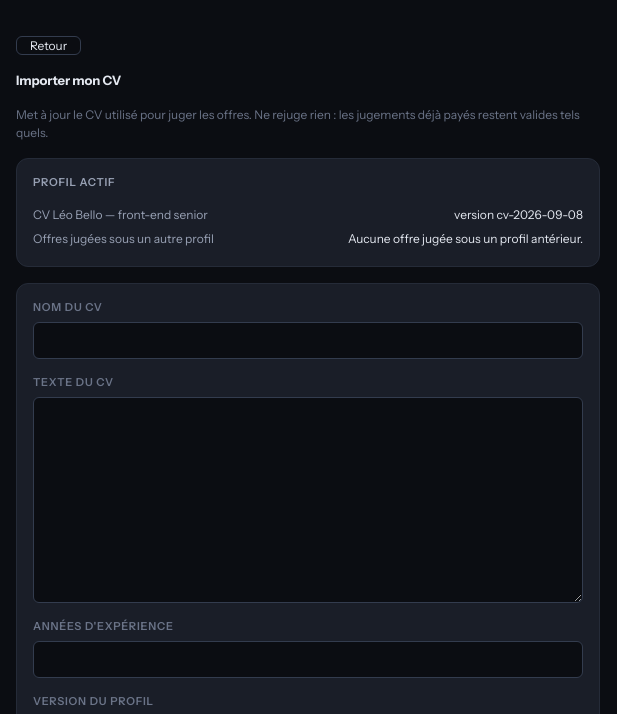
Scenario: ProfilScreen — l’import du CV (tâche 10) › une erreur de validation serveur (400) affiche le message du serveur, sans planter
The width and height of the screenshot is (617, 714).
In the field labelled "Nom du CV": (308,340) x1=33 y1=322 x2=583 y2=359, type "CV"
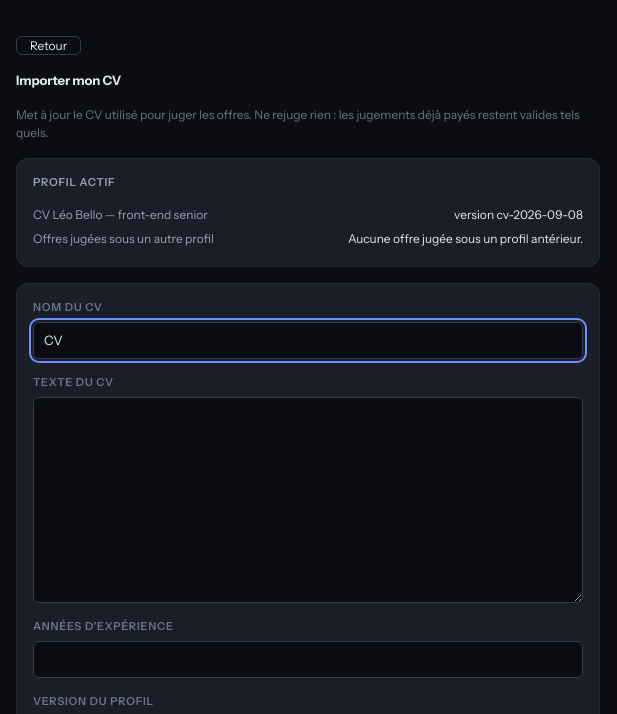
In the text box labelled "Texte du CV": (308,500) x1=33 y1=397 x2=583 y2=603, type "texte"
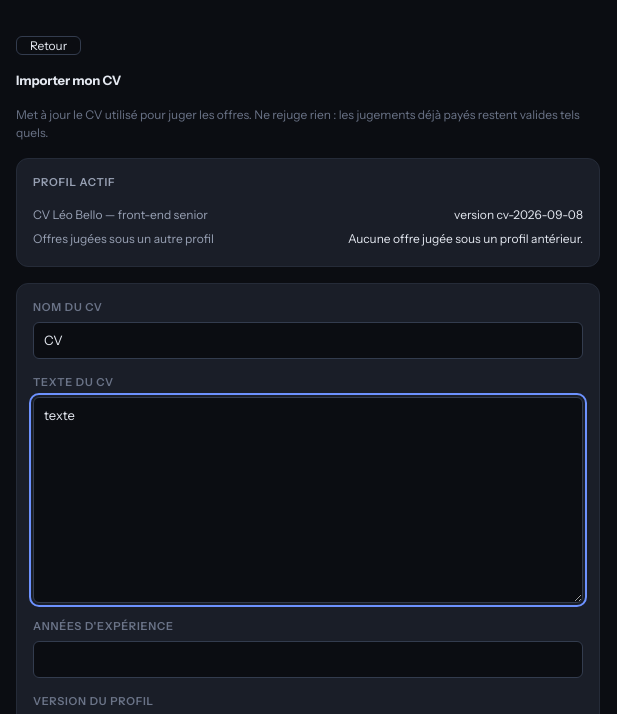
In the number field labelled "Années d'expérience": (308,659) x1=33 y1=641 x2=583 y2=678, type "7"
(page scrolled)
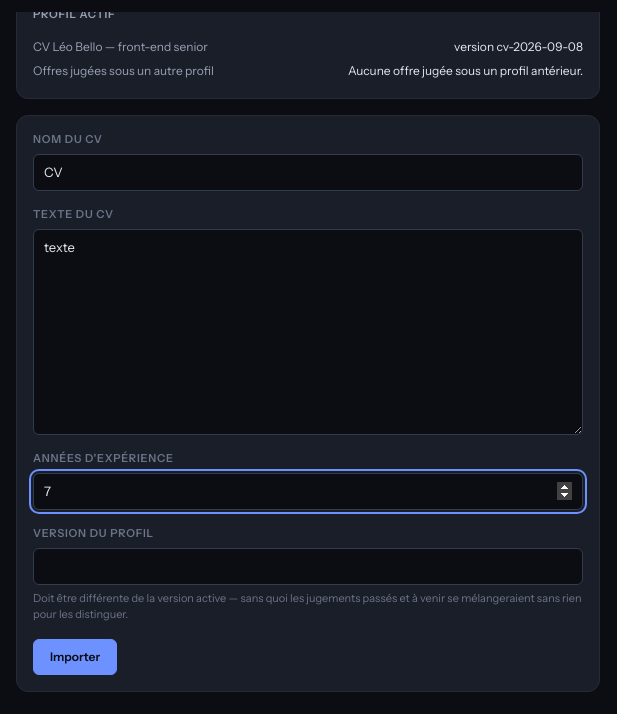
In the field labelled "Version du profil": (308,566) x1=33 y1=548 x2=583 y2=585, type "cv-2026-09-08"
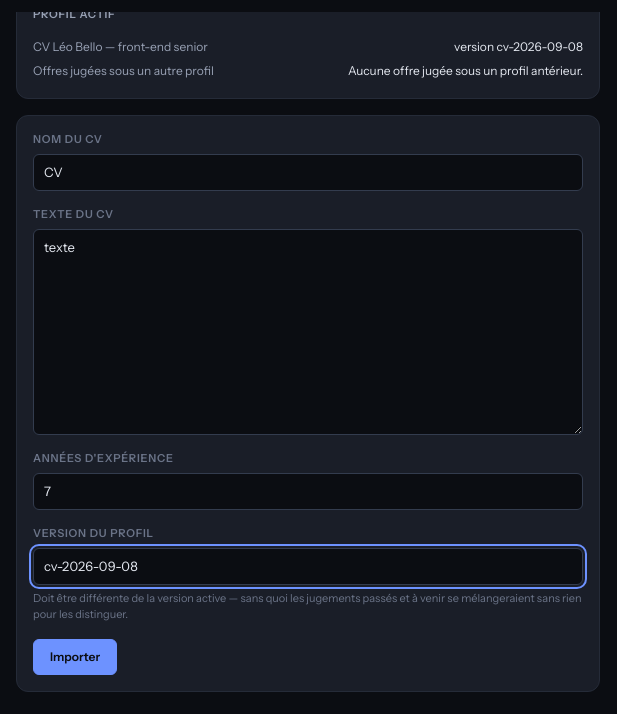
Click the button "Importer": (75,656) x1=33 y1=638 x2=117 y2=674
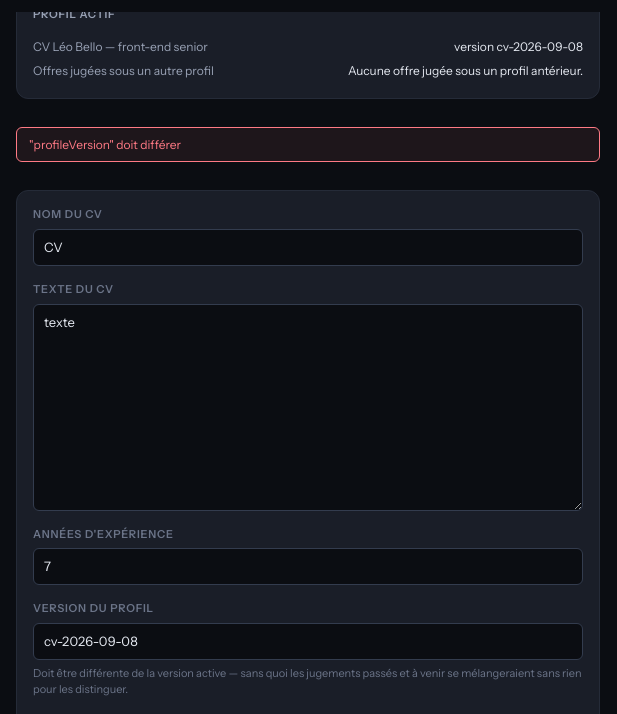
Expected: the text "\"profileVersion\" doit différer" is shown, x1=16 y1=127 x2=600 y2=162
